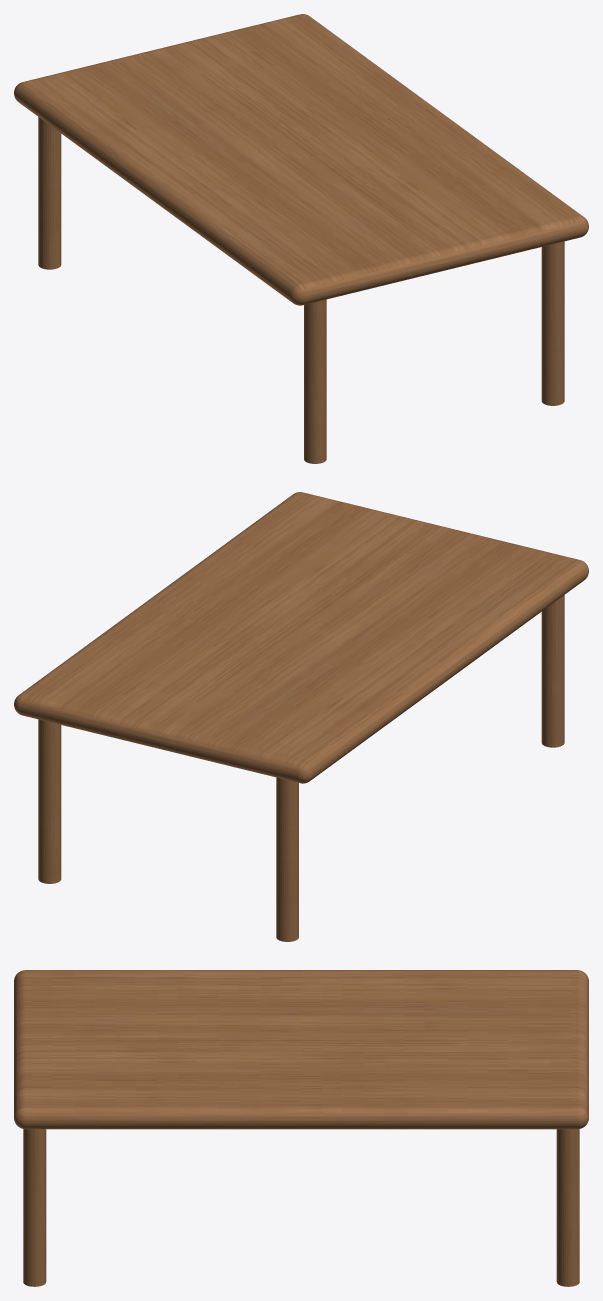
File: real table .fbx
3 views of the same model, one above another, from view 1: azimuth 30°, elevation 25°; view 2: azimuth 150°, elevation 25°; view 3: azimuth 270°, elevation 25° (orthographic).
Visible parts, largest first — view 1: Cube, Cylinder, Cylinder.003, Cylinder.002; view 2: Cube, Cylinder.001, Cylinder.002, Cylinder.003; view 3: Cube, Cylinder, Cylinder.001.
Boxes of the visible parts, <box> form: Cube: <box>14,14,588,305</box>; Cylinder: <box>541,241,564,405</box>; Cylinder.003: <box>304,299,326,463</box>; Cylinder.002: <box>38,117,61,269</box>; Cube: <box>14,492,588,783</box>; Cylinder.001: <box>38,719,61,883</box>; Cylinder.002: <box>276,777,298,941</box>; Cylinder.003: <box>541,595,564,747</box>; Cube: <box>14,970,588,1129</box>; Cylinder: <box>23,1129,46,1286</box>; Cylinder.001: <box>556,1129,579,1286</box>.
Size of the model in its own units: 150 by 88.48 by 250.
